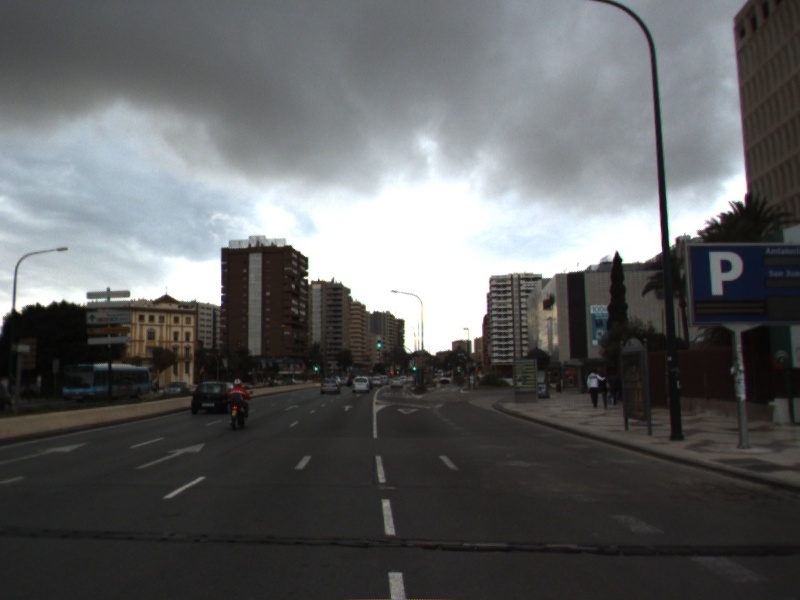STRAIGHT: (133, 440, 208, 471), (1, 440, 91, 465), (282, 403, 301, 412), (339, 403, 356, 413)
